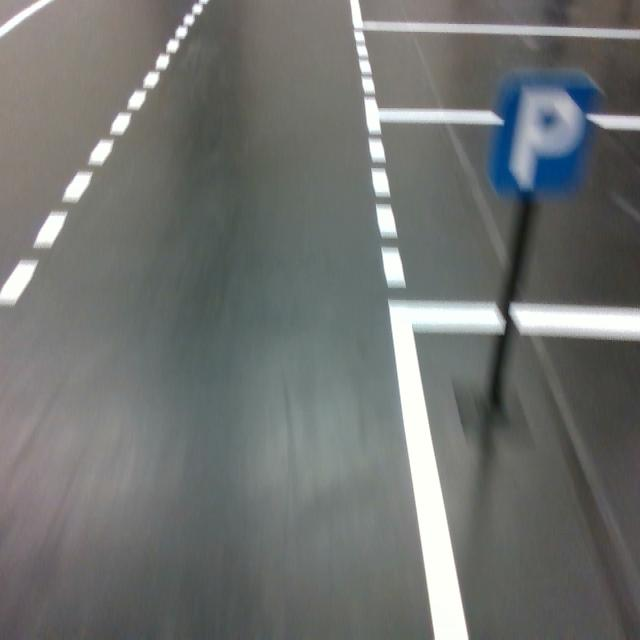parking-sign: (483, 67, 600, 205)
